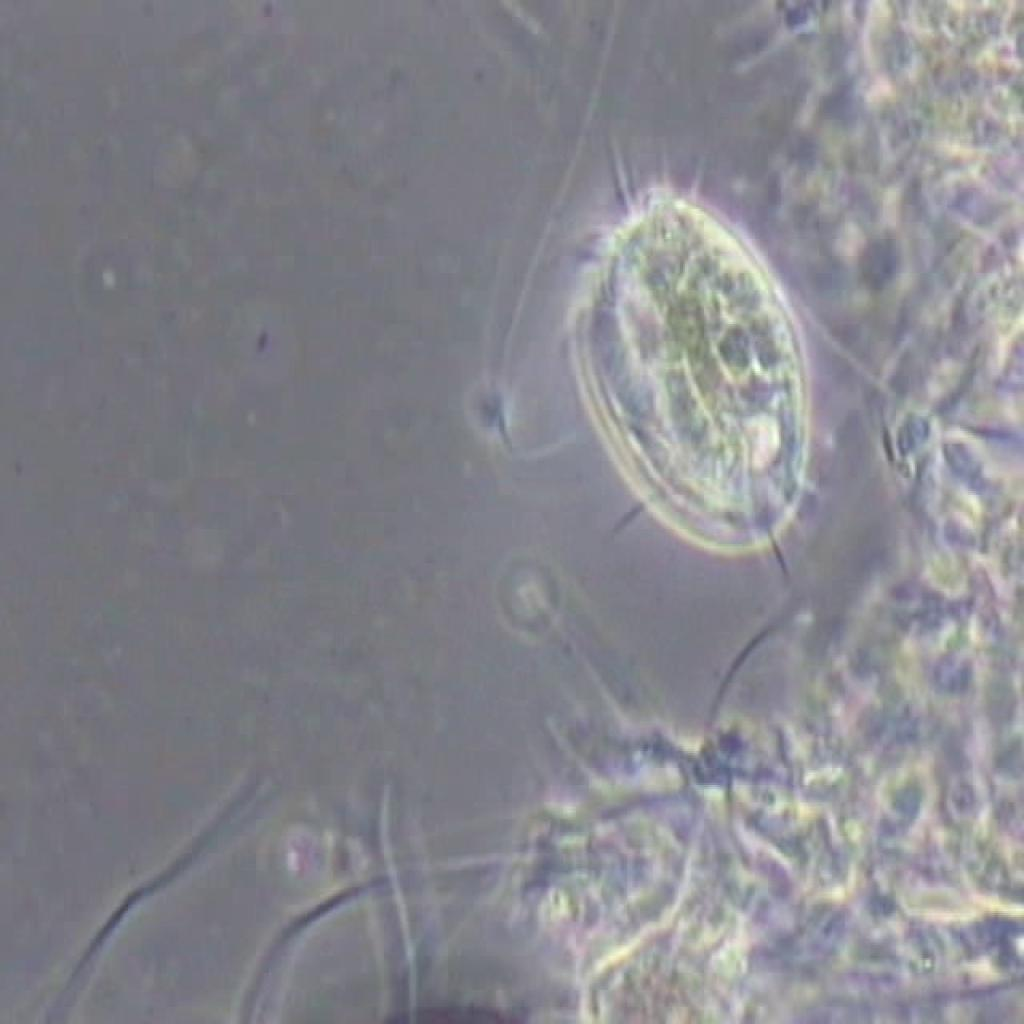Euplotes: (527, 129, 844, 592)
